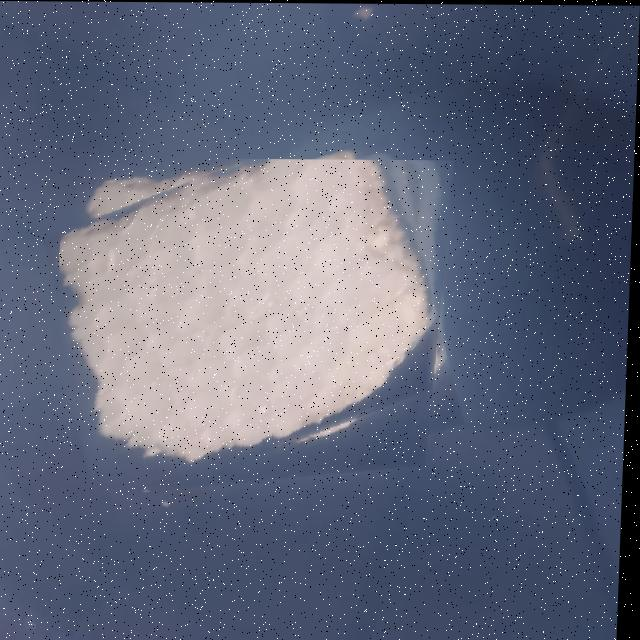litter: (54, 156, 458, 505)
